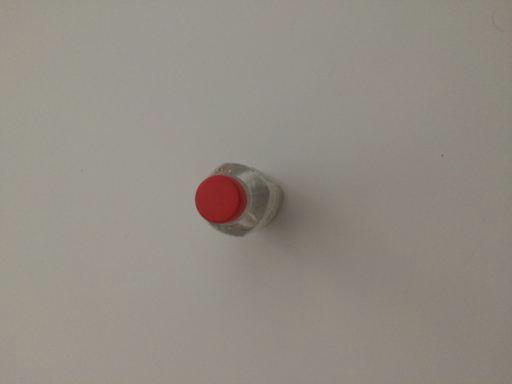plastic: (195, 164, 284, 239)
